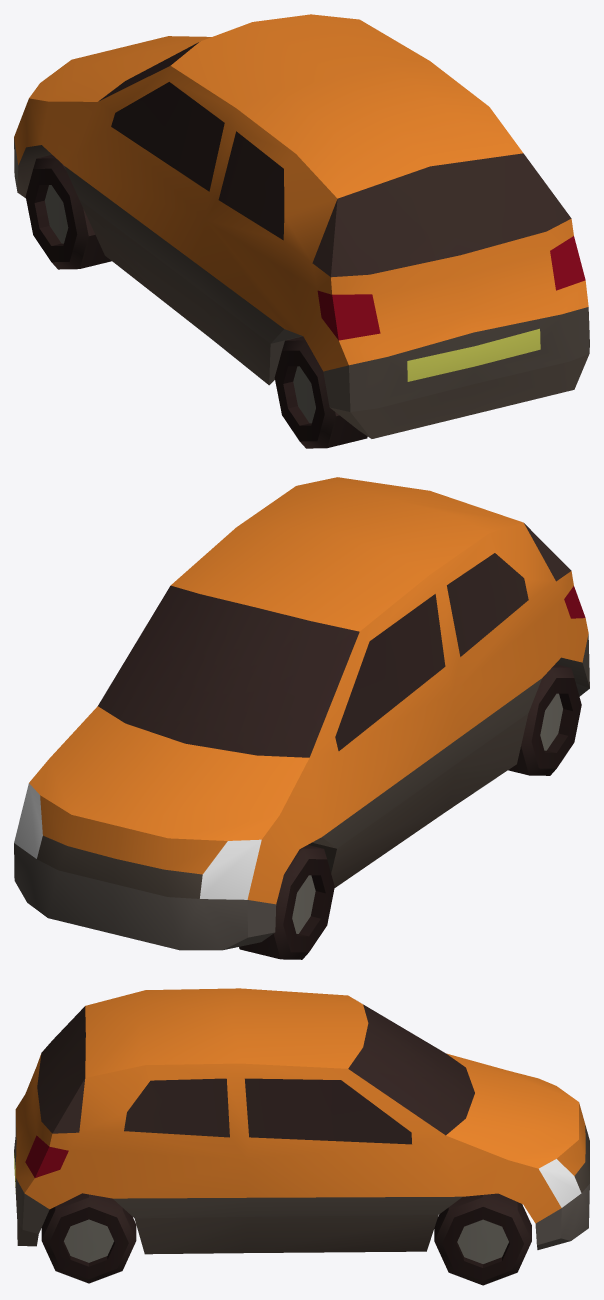
The model's file is carModel10.obj.
The picture shows the model from 3 angles, top to bottom: view 1: azimuth 30°, elevation 25°; view 2: azimuth 150°, elevation 25°; view 3: azimuth 270°, elevation 25°; orthographic projection. The views are drawn at different scales.
Visible parts, largest first — view 1: Car_Carrosserie, Car_Base; view 2: Car_Carrosserie, Car_Base; view 3: Car_Carrosserie, Car_Base.
Part boxes in pixels (x1=…): Car_Carrosserie: x1=14, y1=14, x2=588, y2=371; Car_Base: x1=14, y1=42, x2=589, y2=448; Car_Carrosserie: x1=29, y1=477, x2=588, y2=904; Car_Base: x1=14, y1=523, x2=589, y2=959; Car_Carrosserie: x1=15, y1=988, x2=585, y2=1223; Car_Base: x1=14, y1=1004, x2=589, y2=1285.
Bounding box in the file's own units: 1.94 × 1.98 × 4.67.
3 materials, 3 textured.
